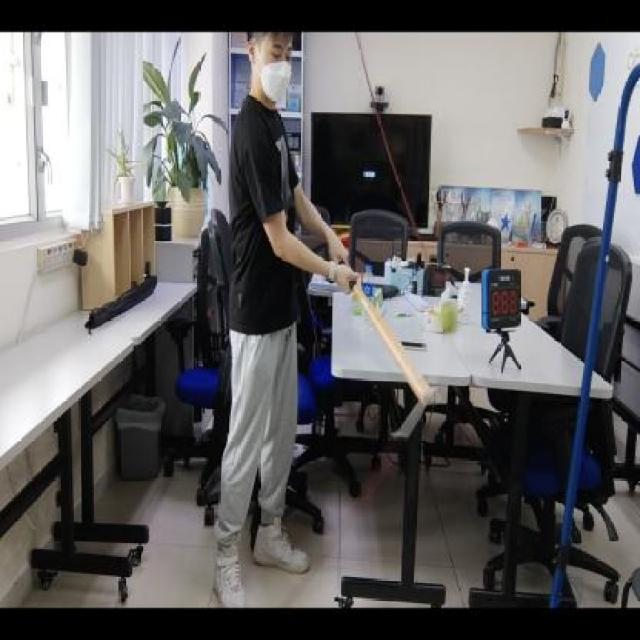baseball: (438, 300, 458, 334)
